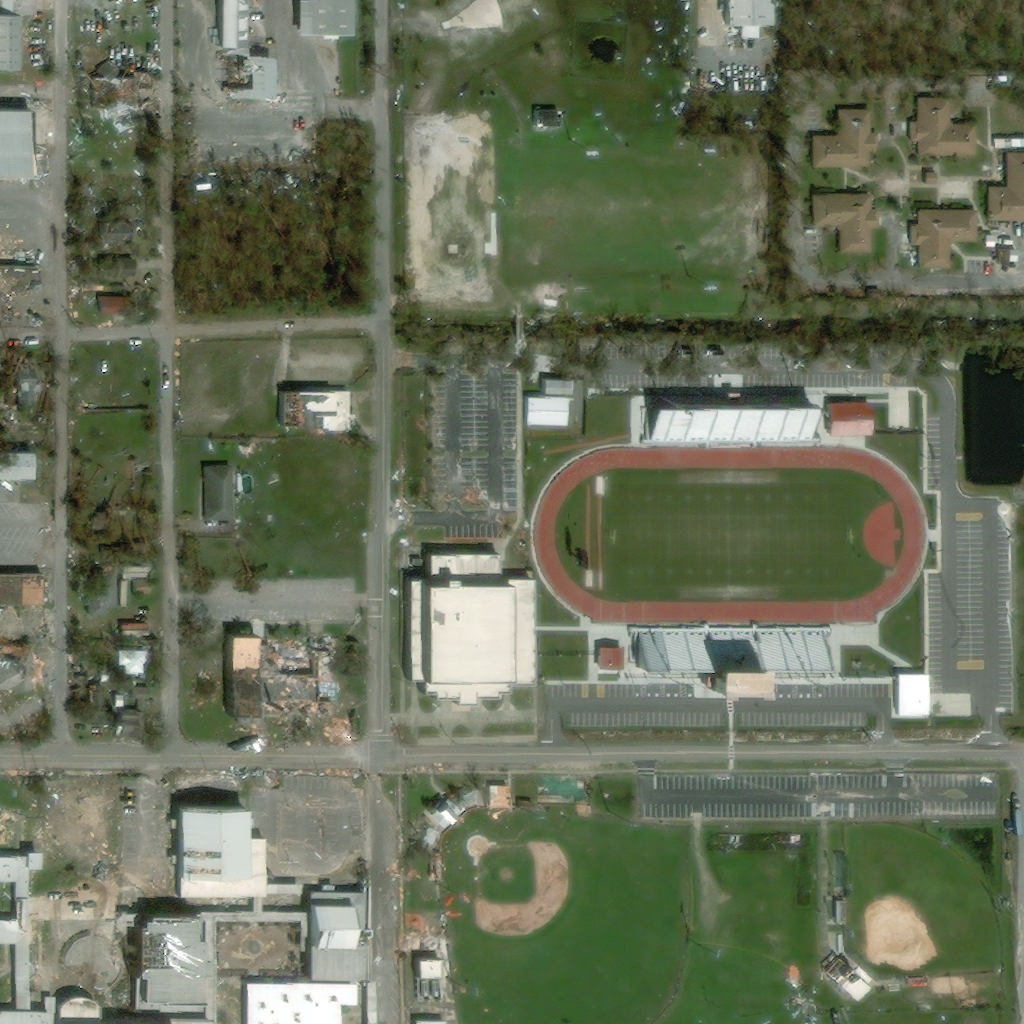destroyed: (33, 776, 126, 885), (0, 266, 38, 319), (110, 72, 151, 112), (177, 781, 207, 799), (429, 858, 442, 879), (961, 1001, 980, 1011), (17, 794, 32, 806)
major_damage: (0, 887, 117, 1009), (169, 805, 301, 898), (220, 617, 328, 714), (125, 912, 205, 1012), (300, 891, 364, 984), (219, 0, 272, 97), (0, 109, 51, 178), (275, 389, 351, 429), (820, 956, 870, 1003), (0, 849, 39, 896), (0, 647, 32, 693), (6, 375, 41, 408), (129, 17, 144, 34), (904, 976, 929, 986)
minor_damage: (721, 0, 770, 54), (0, 571, 45, 607), (0, 1011, 45, 1023), (833, 901, 848, 923)
no_damage: (402, 552, 529, 703), (626, 625, 833, 691), (642, 405, 812, 446), (243, 981, 353, 1023), (911, 211, 977, 271), (810, 195, 877, 254), (811, 109, 879, 167), (910, 99, 976, 158), (987, 150, 1023, 222), (293, 0, 352, 41), (88, 562, 120, 616), (204, 462, 232, 520), (893, 665, 925, 715), (422, 800, 466, 836), (826, 404, 870, 437), (96, 532, 155, 556), (0, 449, 34, 481), (0, 15, 18, 69), (88, 682, 109, 722), (583, 401, 630, 417), (595, 645, 622, 669), (97, 296, 130, 315), (486, 786, 511, 811), (119, 651, 145, 674), (414, 958, 438, 978), (0, 0, 30, 14), (998, 250, 1016, 268), (993, 138, 1023, 148), (104, 658, 116, 678), (129, 688, 153, 698), (139, 577, 153, 591), (924, 173, 935, 185), (984, 236, 995, 247), (240, 444, 252, 453)
unclassified: (983, 669, 1013, 692), (880, 190, 898, 204)
